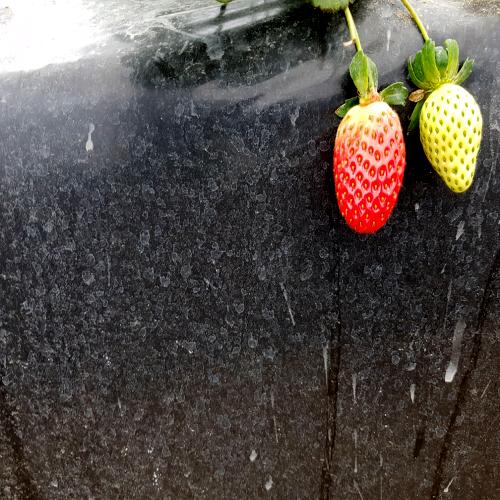ripe: (331, 77, 409, 238)
